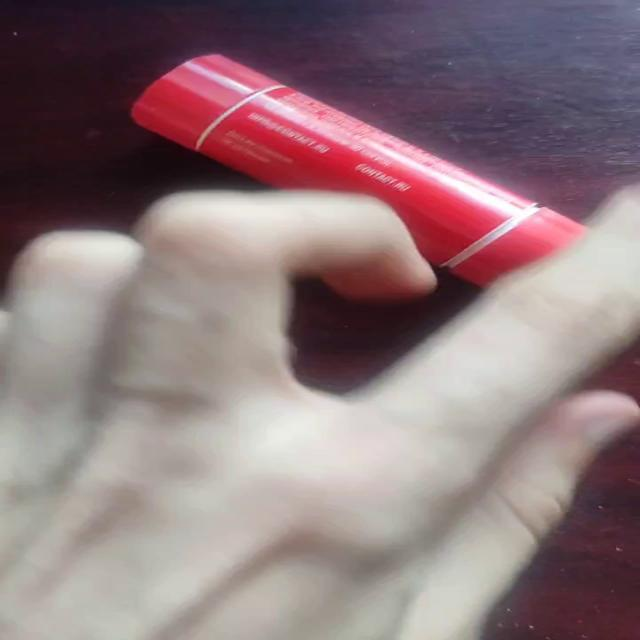glue: (128, 52, 591, 290)
